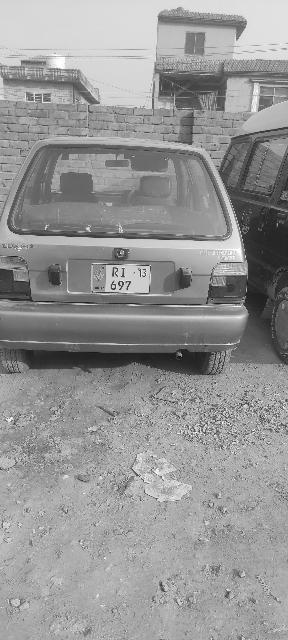Number: (108, 266, 132, 292)
